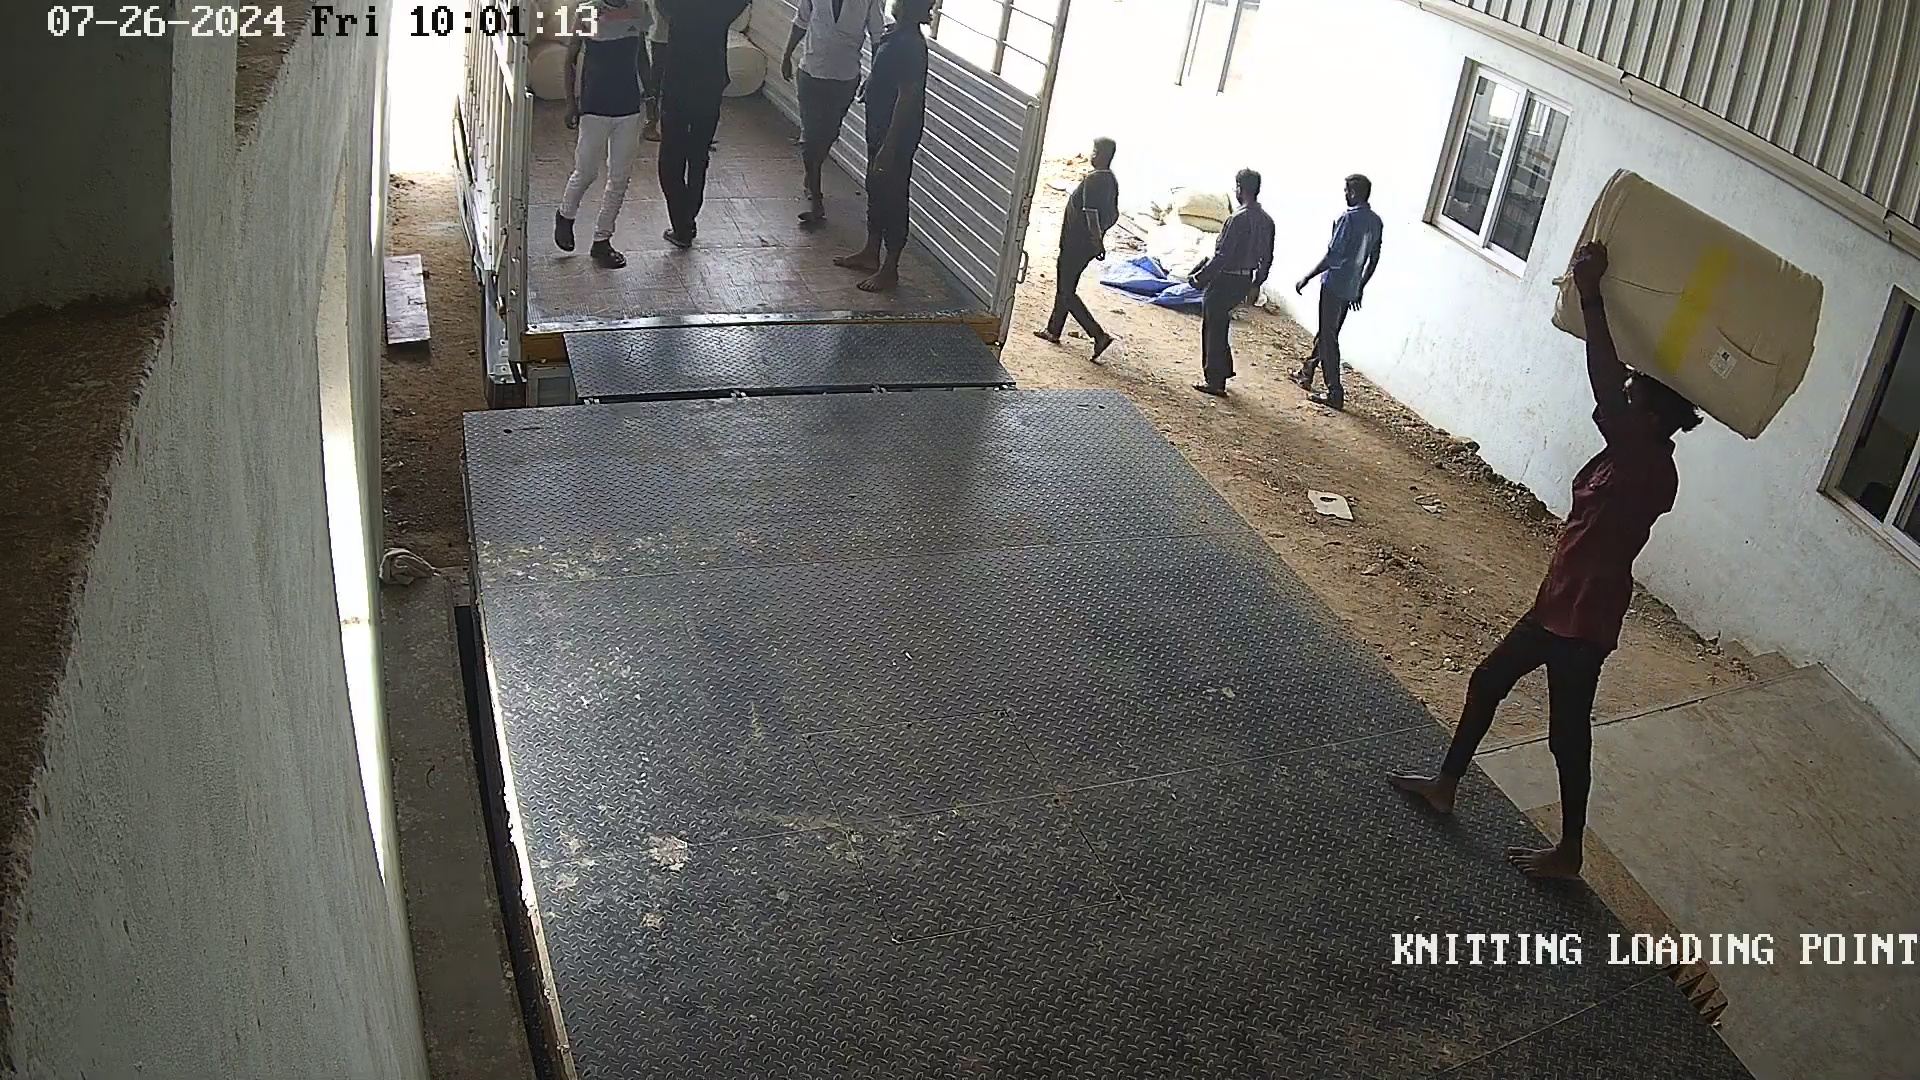bag: (1548, 161, 1828, 444)
